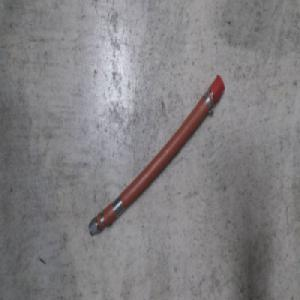Hose: (87, 75, 227, 240)
